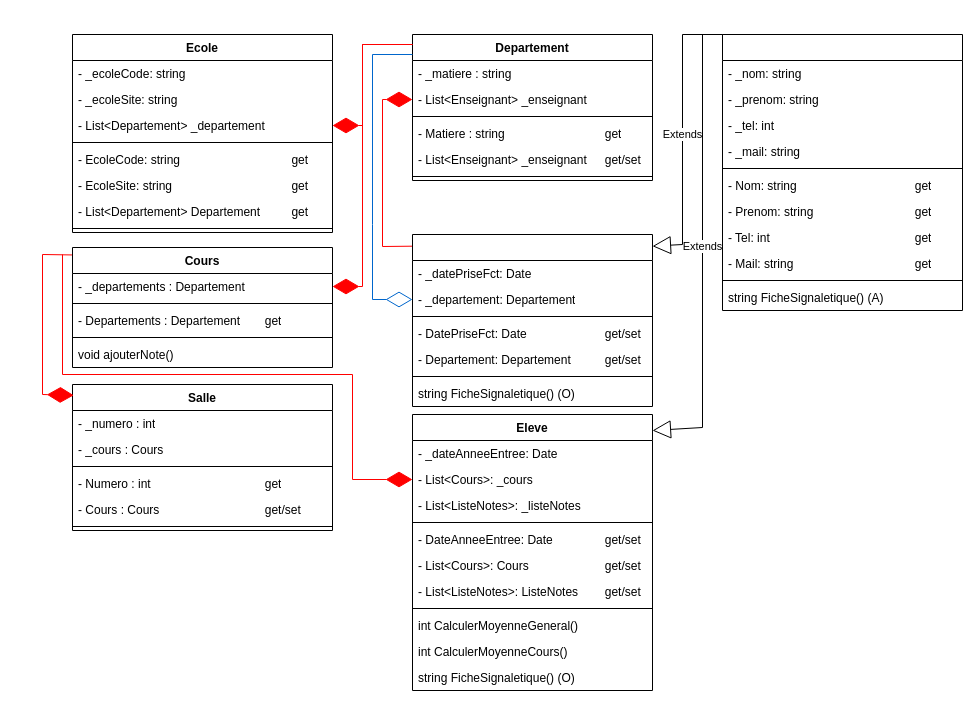
This 980x711 diagram has some shape labels left out. The shapes that lost their labels are listed below. From the top down, each one's box as (x1, y1, x2, y2) in pixels, then its label:
(722, 34, 962, 310): Humain
(412, 234, 652, 406): Enseignant
